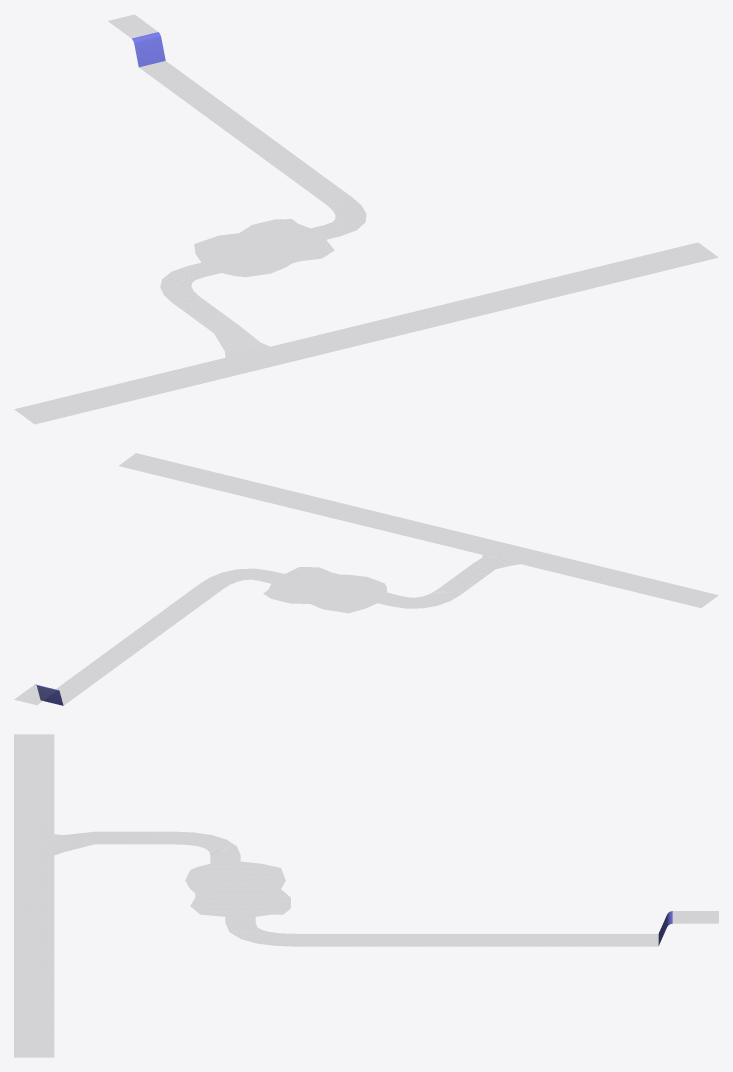
Rendered from island-8x7_water.glb.
The picture shows the model from 3 angles, top to bottom: view 1: azimuth 30°, elevation 25°; view 2: azimuth 150°, elevation 25°; view 3: azimuth 270°, elevation 25°; orthographic projection. The views are drawn at different scales.
Parts seen in each view (by area): view 1: island-8x7_water-col; view 2: island-8x7_water-col; view 3: island-8x7_water-col.
Boxes of the visible parts, box(x1,y1,x2,y2) form: island-8x7_water-col: box(15, 15, 717, 423); island-8x7_water-col: box(15, 453, 717, 705); island-8x7_water-col: box(14, 734, 718, 1057).
Bounding box in the file's own units: 152 × 6.5 × 140.
Materials: 4 (3 with a texture image).
